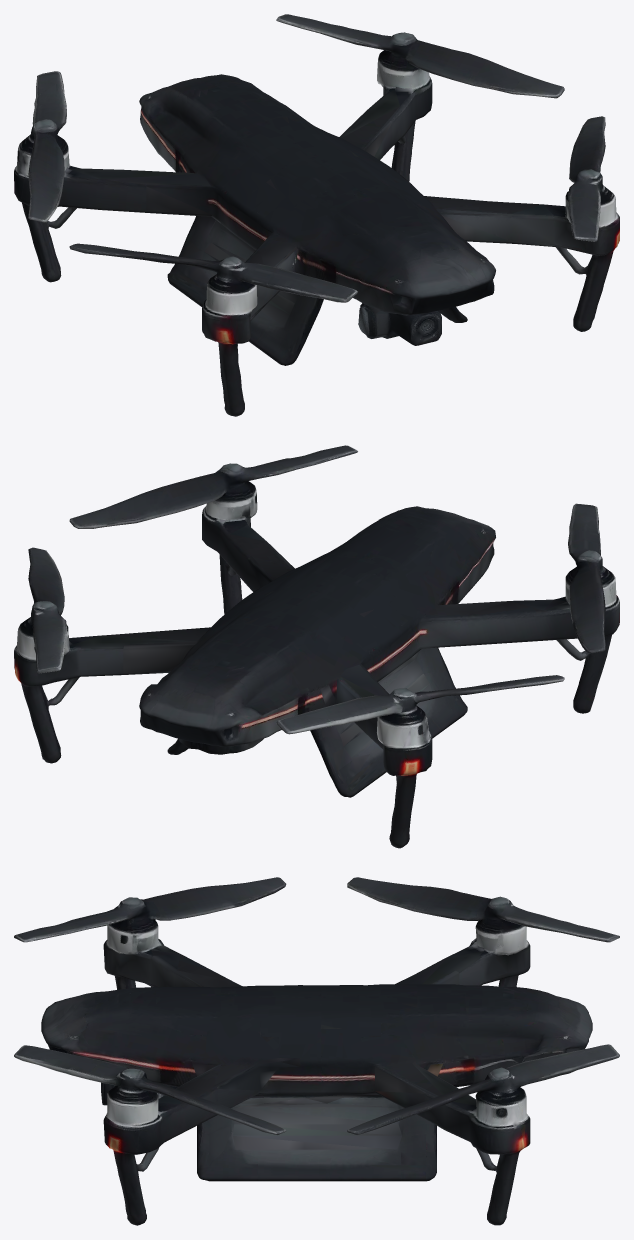
The model's file is Drone.glb.
3 renders of one model, top to bottom at view 1: azimuth 30°, elevation 25°; view 2: azimuth 150°, elevation 25°; view 3: azimuth 270°, elevation 25°, orthographic.
Bounding box in the file's own units: 1.91 × 0.5401 × 1.91.
Materials: 1 (1 with a texture image).
